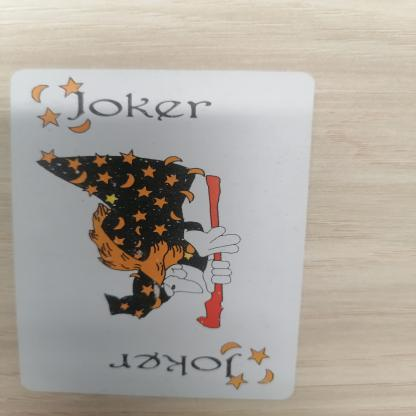BLACK JOKER: (28, 75, 234, 139), (94, 342, 294, 392)
